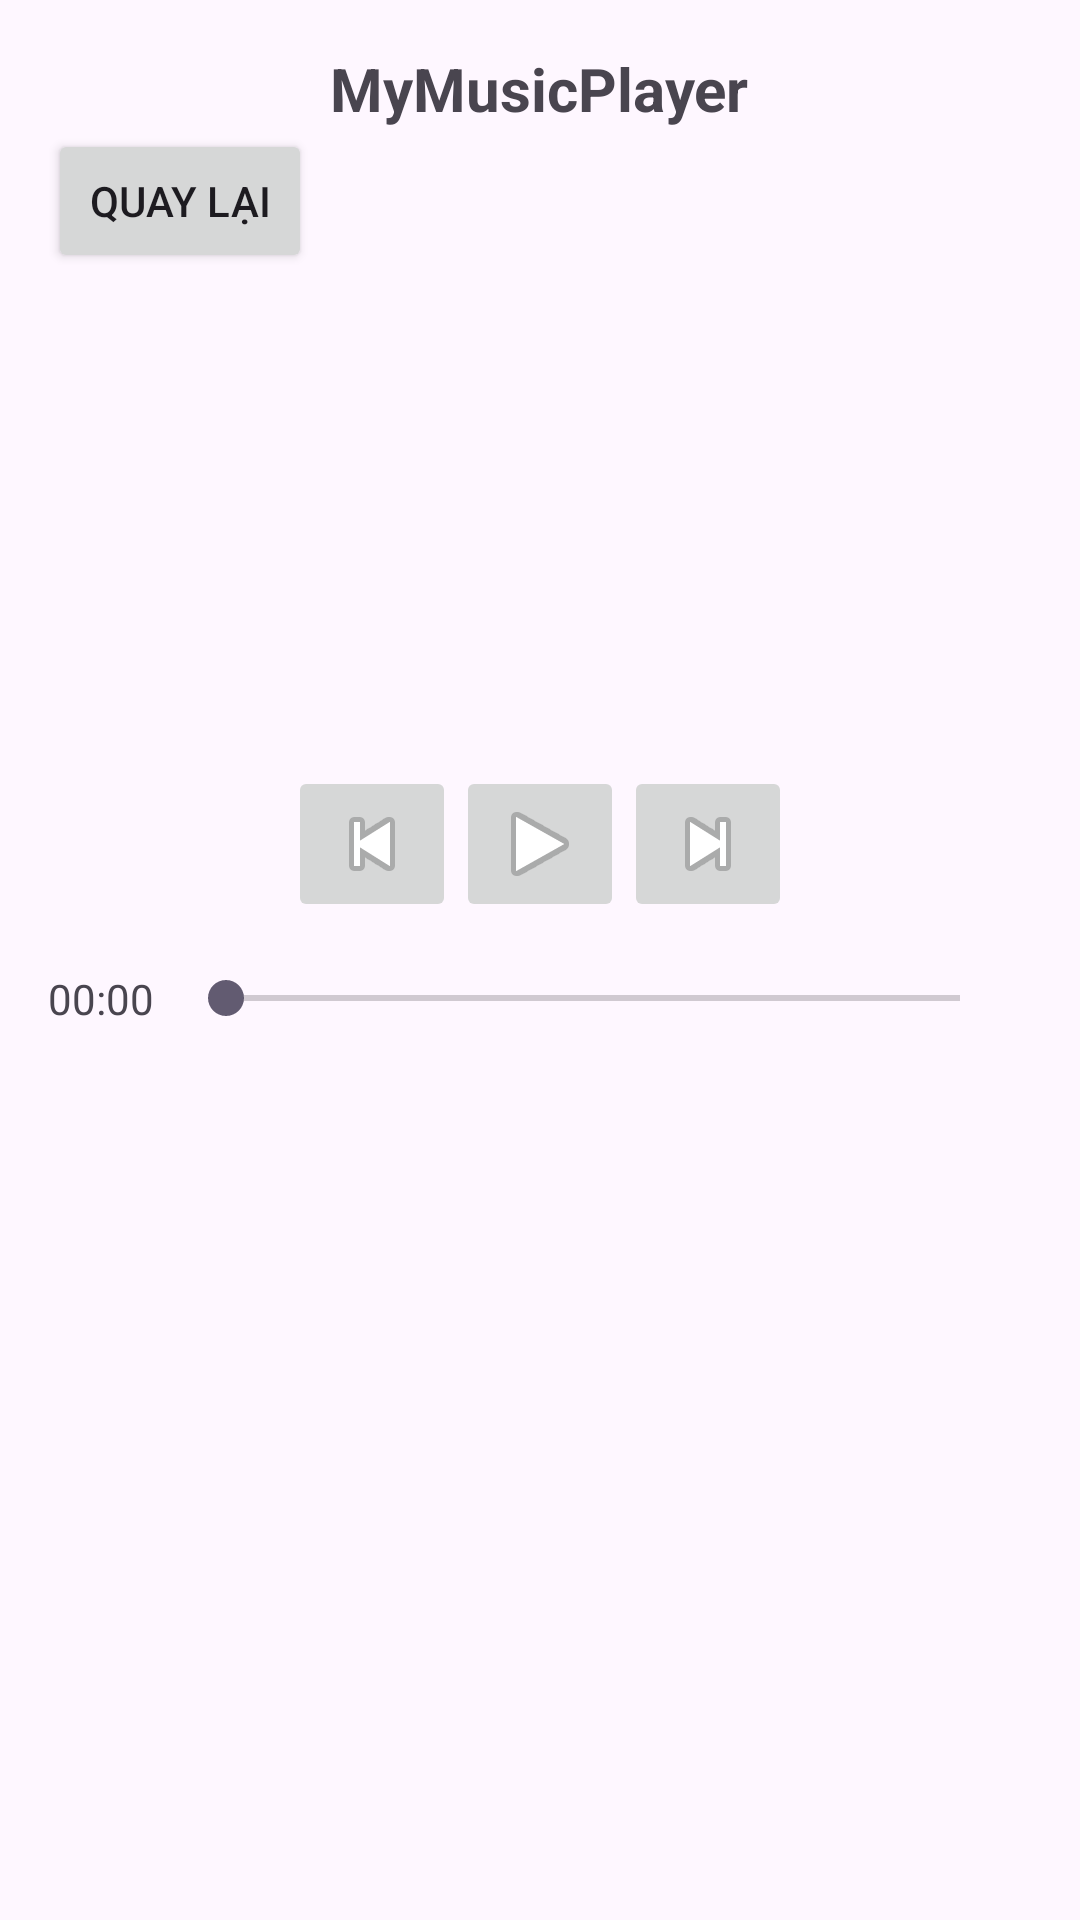

Named icons in this screenshot (1080×1920) and their centers, point (x, y):
Bài kế tiếp: point (708, 844)
Bài trước: point (372, 844)
Play: point (540, 844)
